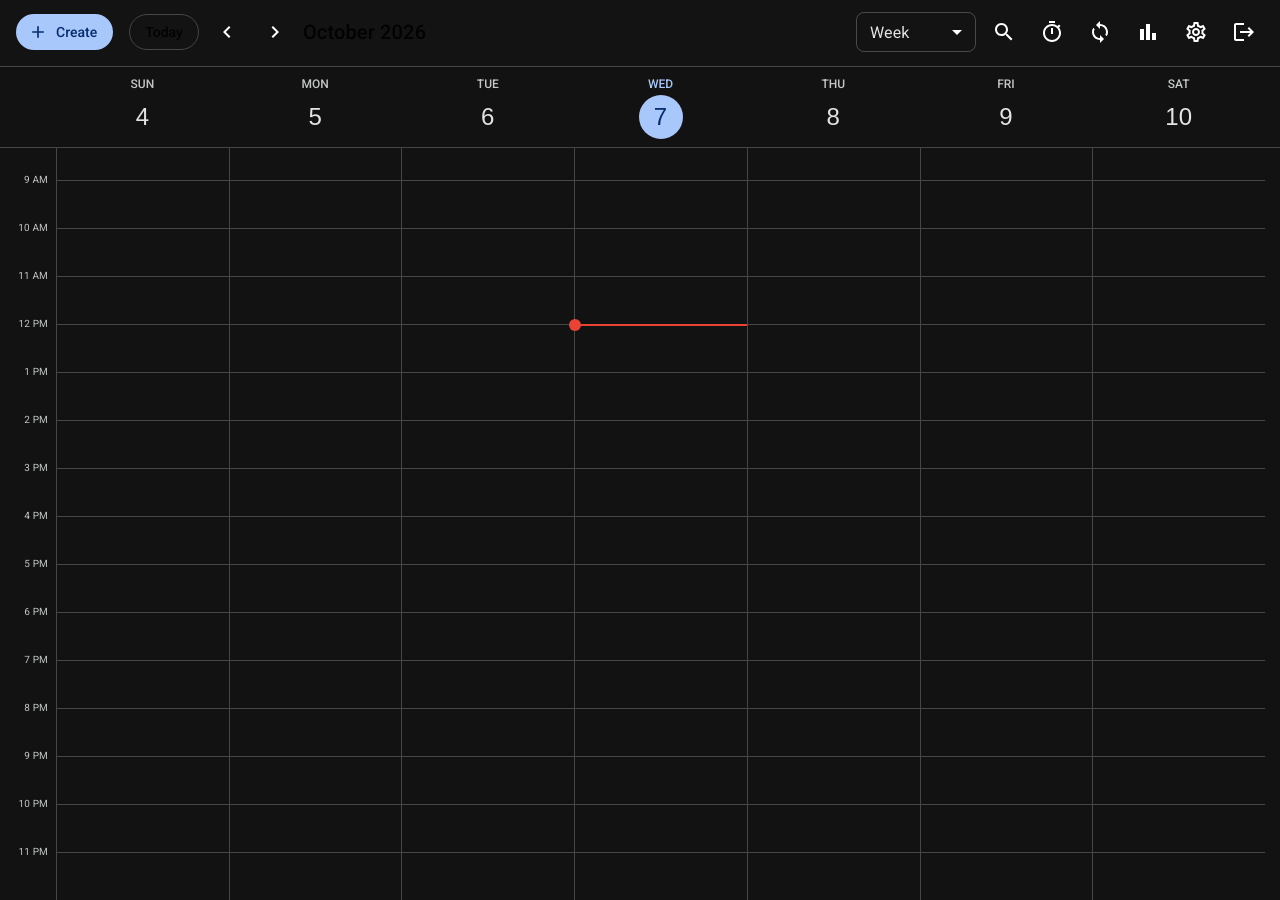
keyboard shortcuts (§5.7) › goes to a typed date (g)
(page scrolled)
Type keys "dg"
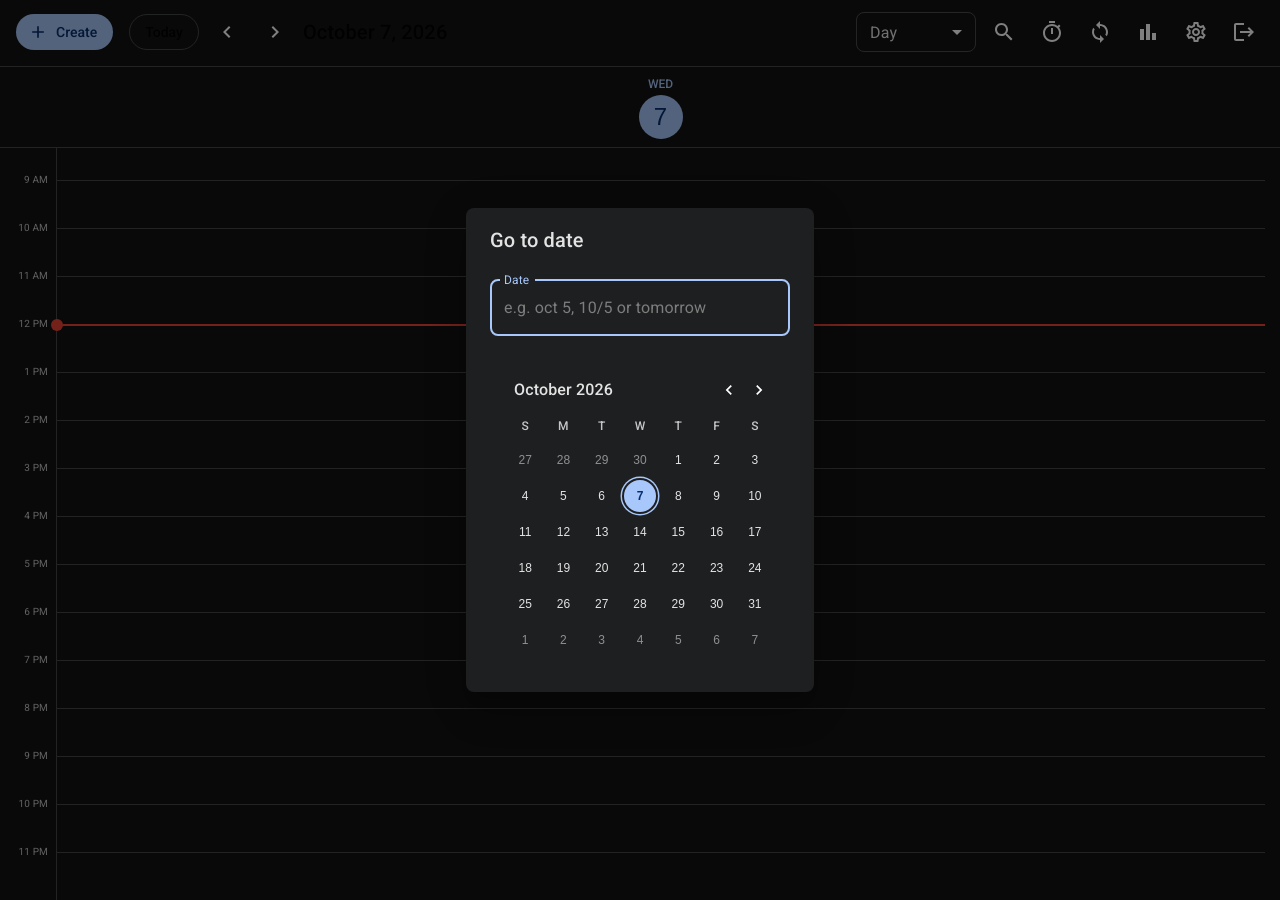
Type "nonsense" into the field labelled "Date".
click(640, 308); type("nonsense")  # box [490,280,790,336]
Then press Enter
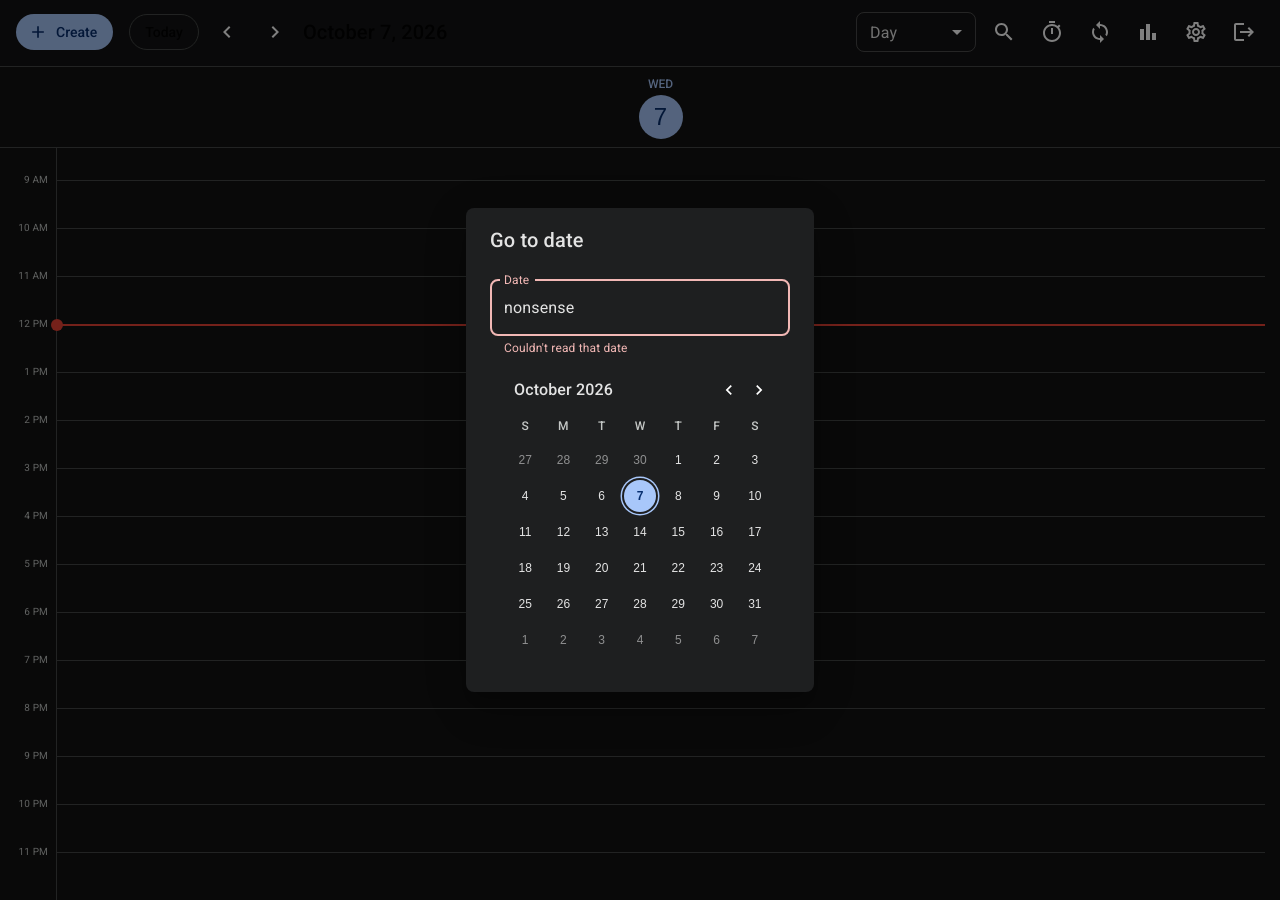
Result: the text "Couldn't read that date" is shown at [504,341,628,355]
Replace the text in the field labelled "Date" with "dec 25" at [640, 308], box [490,280,790,336]
Then press Enter
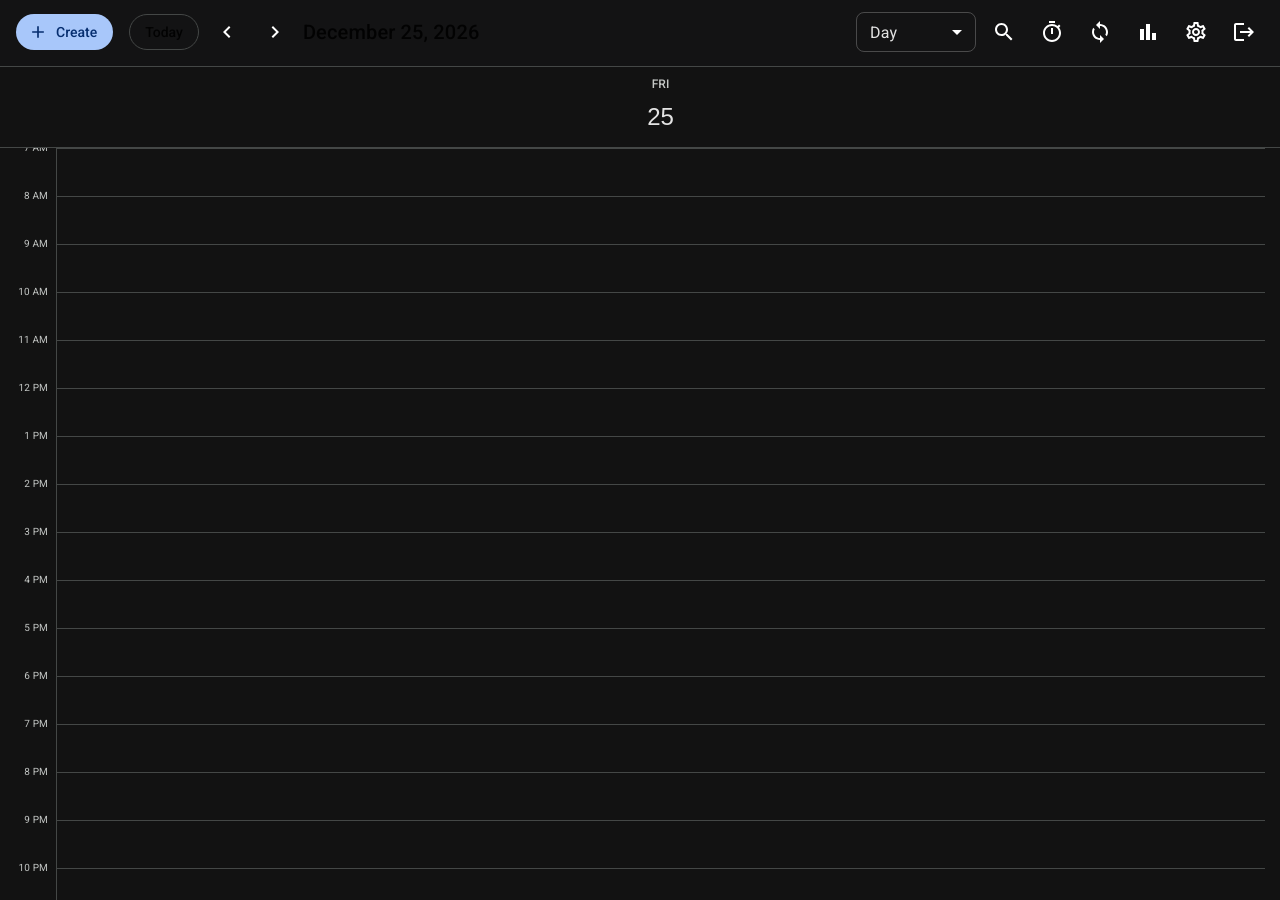
Result: the dialog is gone
